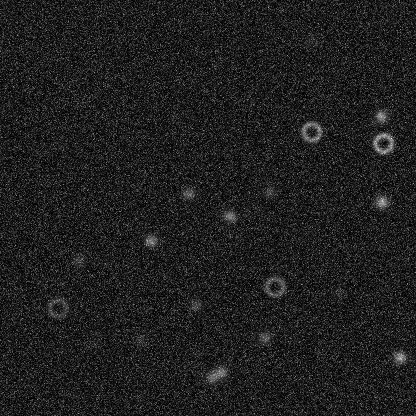Ring: (262, 274, 286, 298), (371, 131, 395, 155), (299, 119, 323, 143), (45, 296, 69, 320)
Spot: (256, 329, 272, 345), (133, 331, 149, 347), (329, 285, 345, 301), (180, 185, 196, 201), (221, 207, 237, 223), (262, 183, 278, 199), (203, 369, 219, 385), (391, 349, 407, 365), (142, 232, 158, 248), (187, 296, 203, 312), (302, 32, 318, 48), (70, 252, 86, 268), (374, 194, 390, 210), (86, 335, 102, 351), (373, 108, 389, 124), (212, 363, 228, 379)
